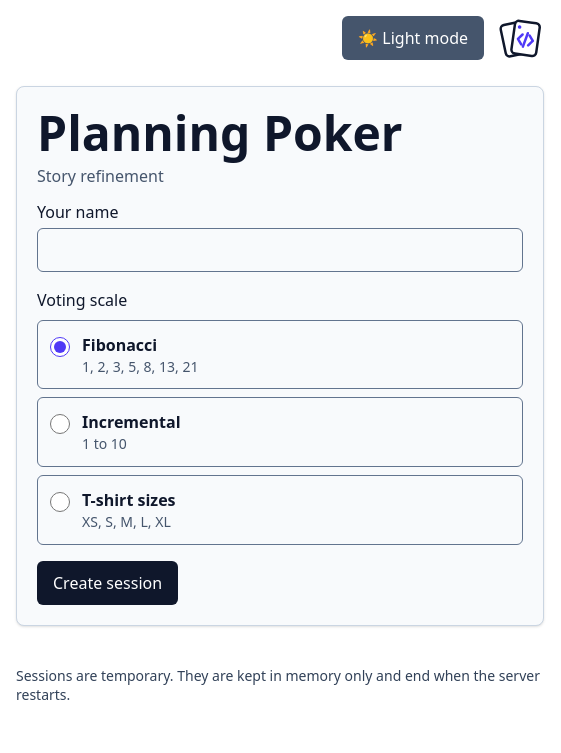
it: CreateGamePage › shows the retry message, keeps the name and re-enables the button after a 500
The image size is (561, 753).
Type "Sven" into the field labelled "Your name".
click(280, 250); type("Sven")  # box [37,228,523,272]
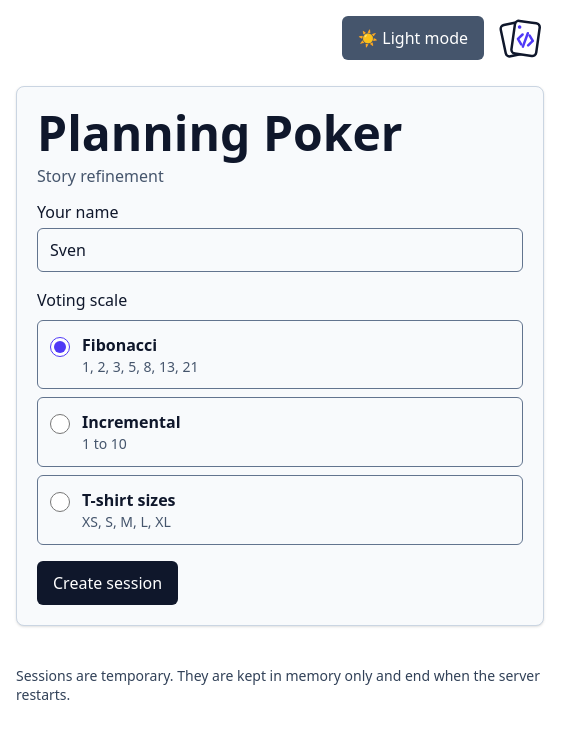
Click the button "Create session".
click(108, 583)  # box [37,561,178,605]
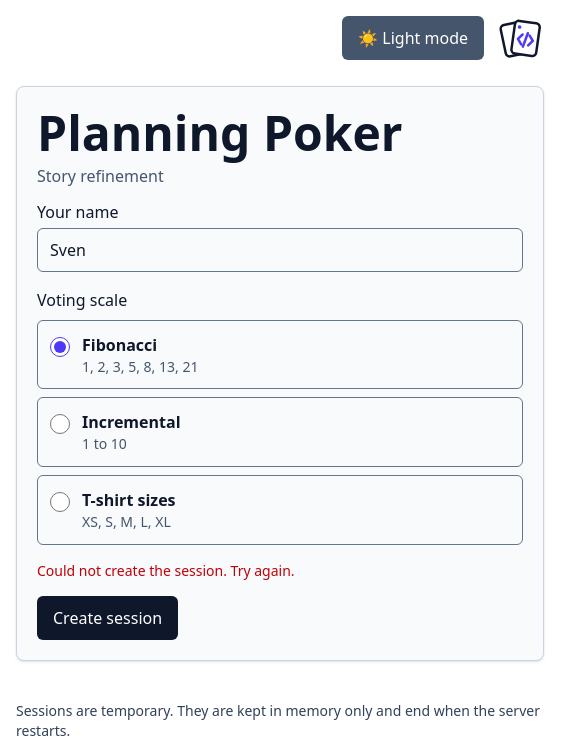
Expected: the button "Create session" is enabled, [37,596,178,640]
Now the message reads "Could not create the session. Try again.", box [37,561,295,580]
